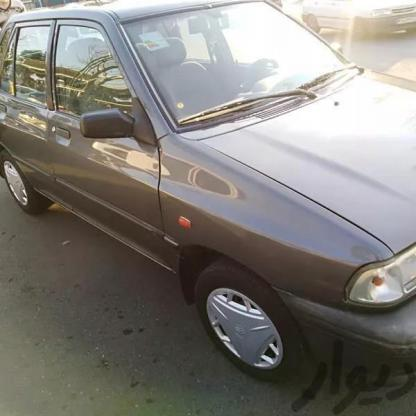Car: (0, 0, 416, 390), (280, 4, 415, 44)
